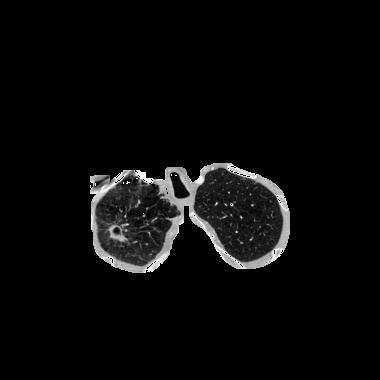PN: (109, 221, 125, 237)
